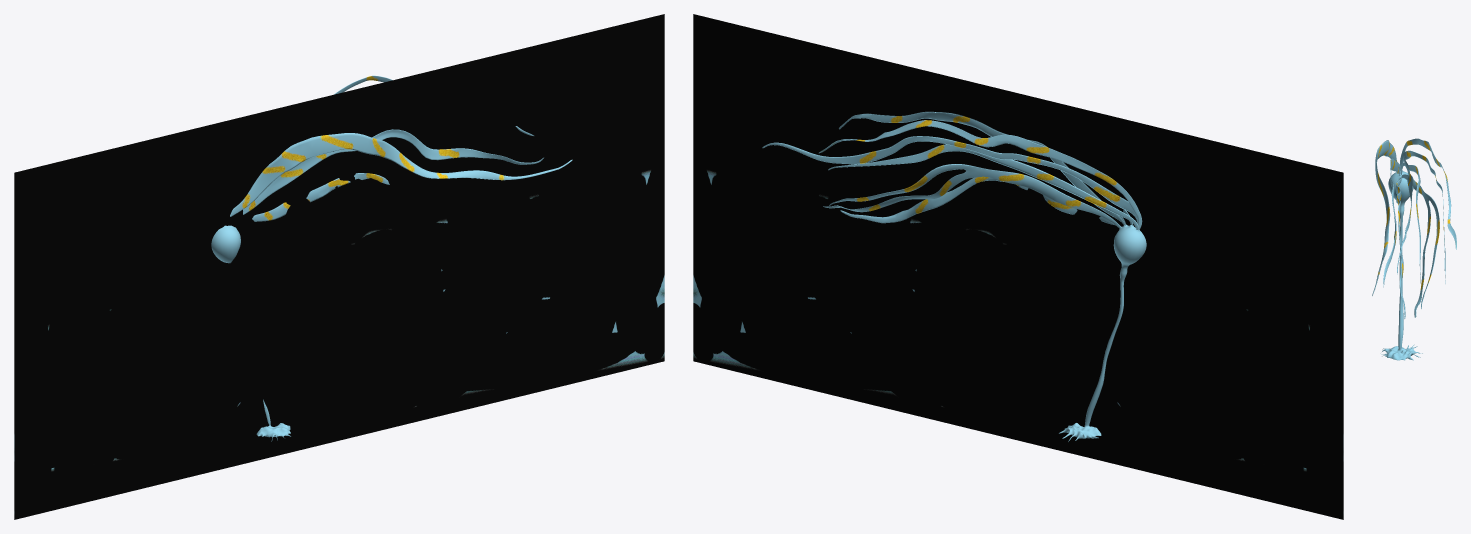
File: Health.fbx
3 views of the same model, side by side, from view 1: azimuth 30°, elevation 25°; view 2: azimuth 150°, elevation 25°; view 3: azimuth 270°, elevation 25° (orthographic). The views are drawn at different scales.
Visible parts, largest first — view 1: root, node_id38; view 2: root, node_id38; view 3: node_id38.
Part boxes in pixels (<box>): root: <box>14,14,664,519</box>; node_id38: <box>211,75,572,441</box>; root: <box>693,14,1343,519</box>; node_id38: <box>762,111,1146,441</box>; node_id38: <box>1372,138,1456,360</box>.
Bounding box in the file's own units: 6.94 × 3.54 × 1.03.
Materials: 2 (2 with a texture image).
